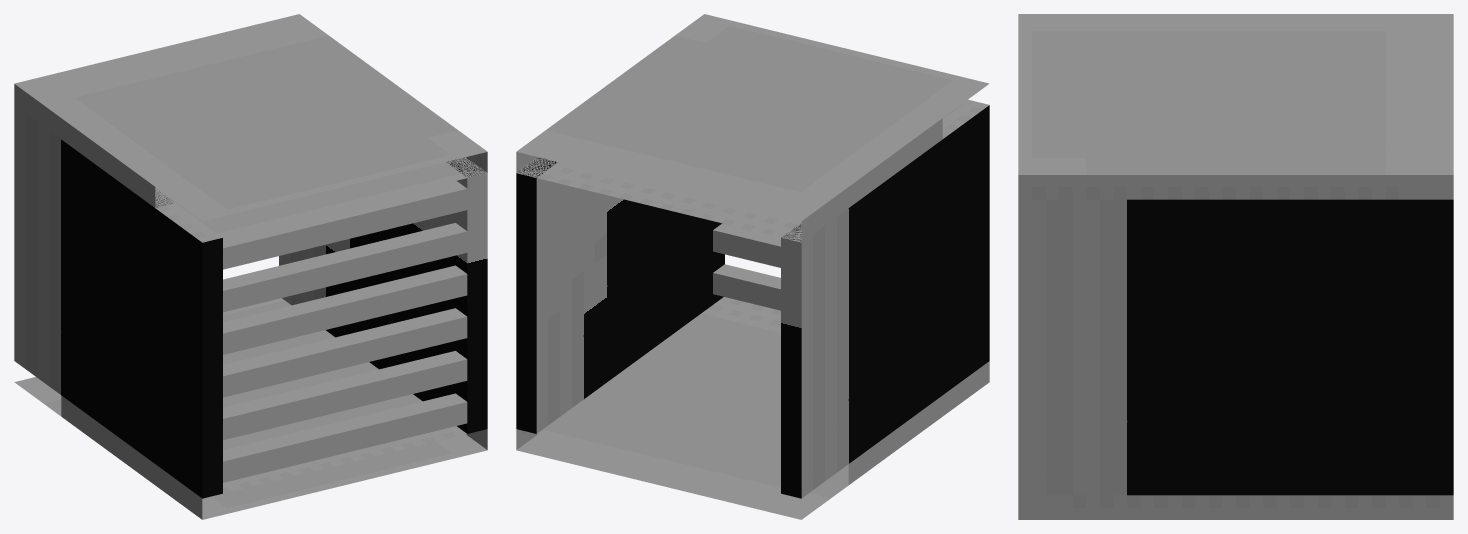
Rendered from vent_U.fbx.
The picture shows the model from 3 angles, left to right: view 1: azimuth 30°, elevation 25°; view 2: azimuth 150°, elevation 25°; view 3: azimuth 270°, elevation 25°; orthographic projection. The views are drawn at different scales.
Visible parts, largest first — view 1: cube_1, cube_2, cube, cube_3, cube_7, cube_8, cube_6, cube_4, cube_5, cube_9; view 2: cube_1, cube_2, cube, cube_3, cube_4, cube_5; view 3: cube_3, cube_1, cube.
Boxes of the visible parts, left/top/right/bottom form: cube_1: left=14, top=14, right=487, bottom=242; cube_2: left=14, top=105, right=222, bottom=498; cube: left=14, top=298, right=487, bottom=519; cube_3: left=279, top=157, right=487, bottom=433; cube_7: left=223, top=265, right=467, bottom=354; cube_8: left=223, top=223, right=467, bottom=312; cube_6: left=223, top=308, right=467, bottom=397; cube_4: left=223, top=393, right=467, bottom=482; cube_5: left=223, top=351, right=467, bottom=440; cube_9: left=223, top=181, right=467, bottom=269; cube_1: left=516, top=14, right=989, bottom=242; cube_2: left=781, top=105, right=989, bottom=498; cube: left=516, top=297, right=989, bottom=519; cube_3: left=516, top=157, right=724, bottom=433; cube_4: left=713, top=264, right=780, bottom=310; cube_5: left=713, top=223, right=780, bottom=267; cube_3: left=1018, top=199, right=1453, bottom=495; cube_1: left=1018, top=14, right=1453, bottom=199; cube: left=1018, top=495, right=1453, bottom=519.
Size of the model in its own units: 87.5 by 87.5 by 100.
